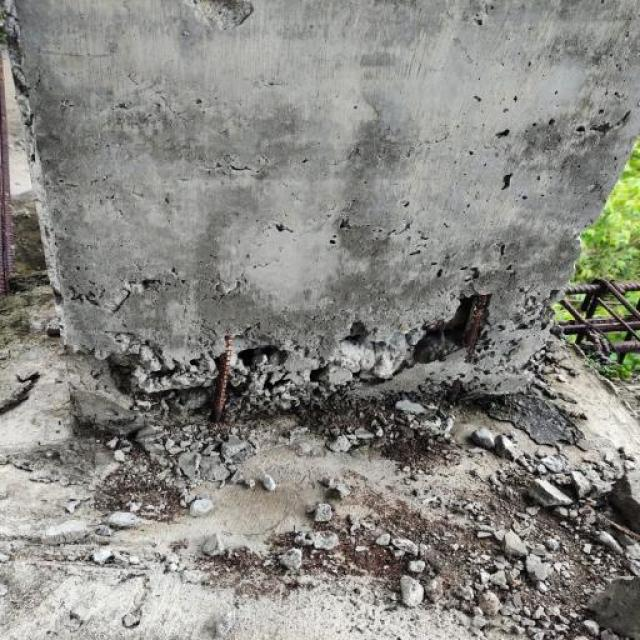D0w0: (68, 295, 528, 431)
